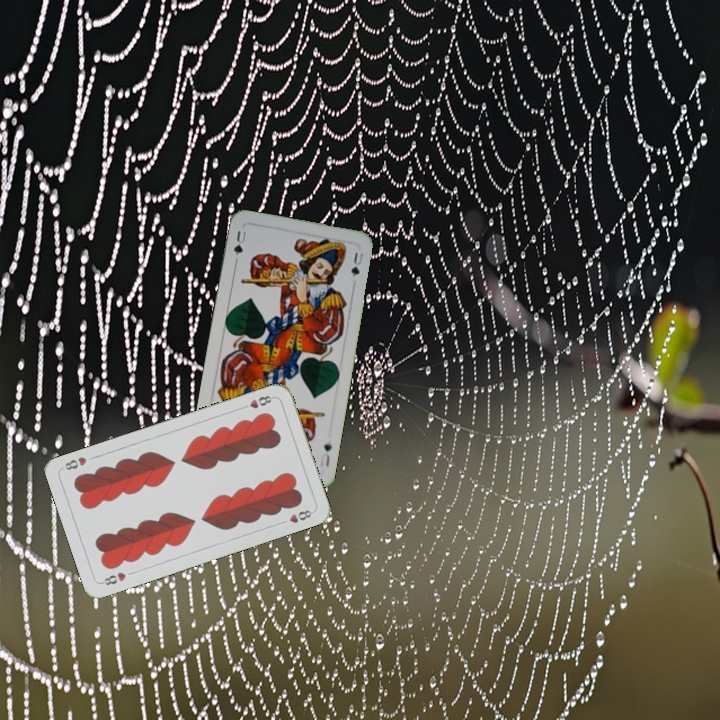GU: (230, 227, 249, 258), (316, 439, 334, 470)
H8: (237, 391, 277, 412), (97, 568, 129, 588)
